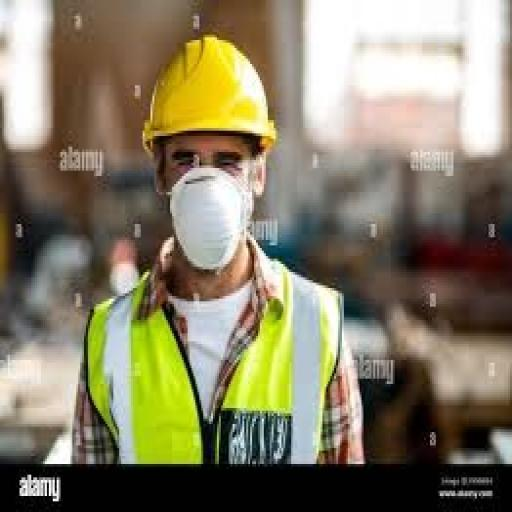mask: (168, 168, 261, 278)
